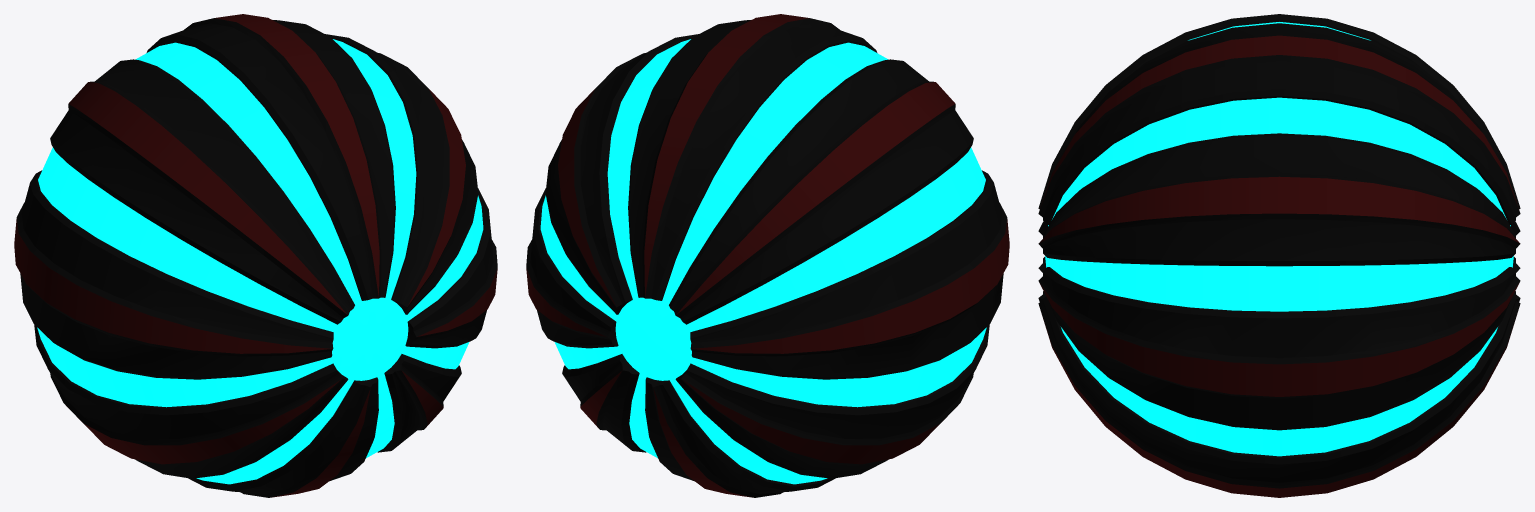
The model's file is Rolling_Enemy_Type_01.FBX.
3 views of the same model, side by side, from view 1: azimuth 30°, elevation 25°; view 2: azimuth 150°, elevation 25°; view 3: azimuth 270°, elevation 25° (orthographic).
Visible parts, largest first — view 1: Rolling_Enemy_Body; view 2: Rolling_Enemy_Body; view 3: Rolling_Enemy_Body.
Boxes of the visible parts, x1,y1,x2,y2 form: Rolling_Enemy_Body: (14,14,497,497); Rolling_Enemy_Body: (526,14,1009,497); Rolling_Enemy_Body: (1038,14,1520,497).
Bounding box in the file's own units: 41.26 × 41.26 × 40.5.
